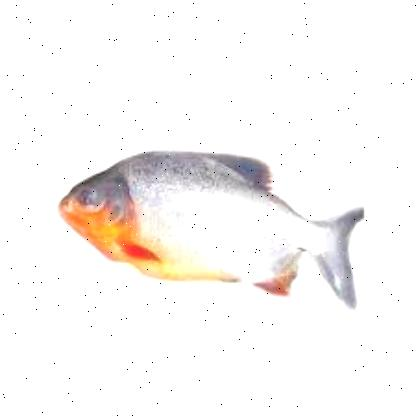ikan-pacu: (63, 148, 348, 284)
